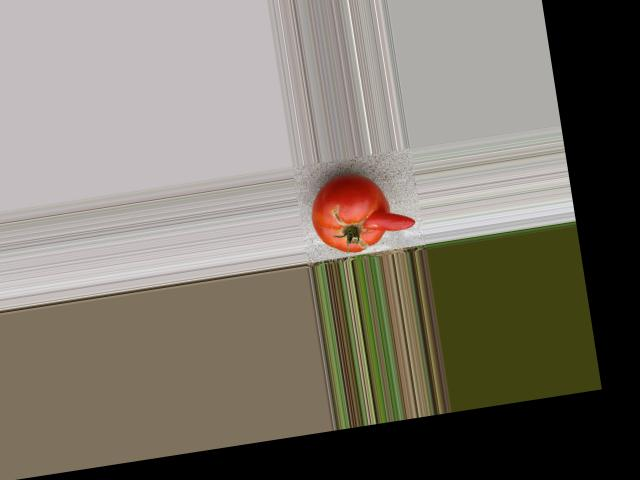tomato: (305, 170, 395, 258)
